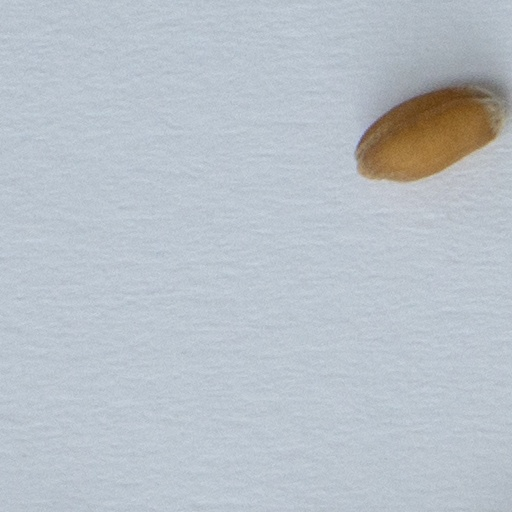Wheat-grain-poly: (353, 86, 502, 181)
